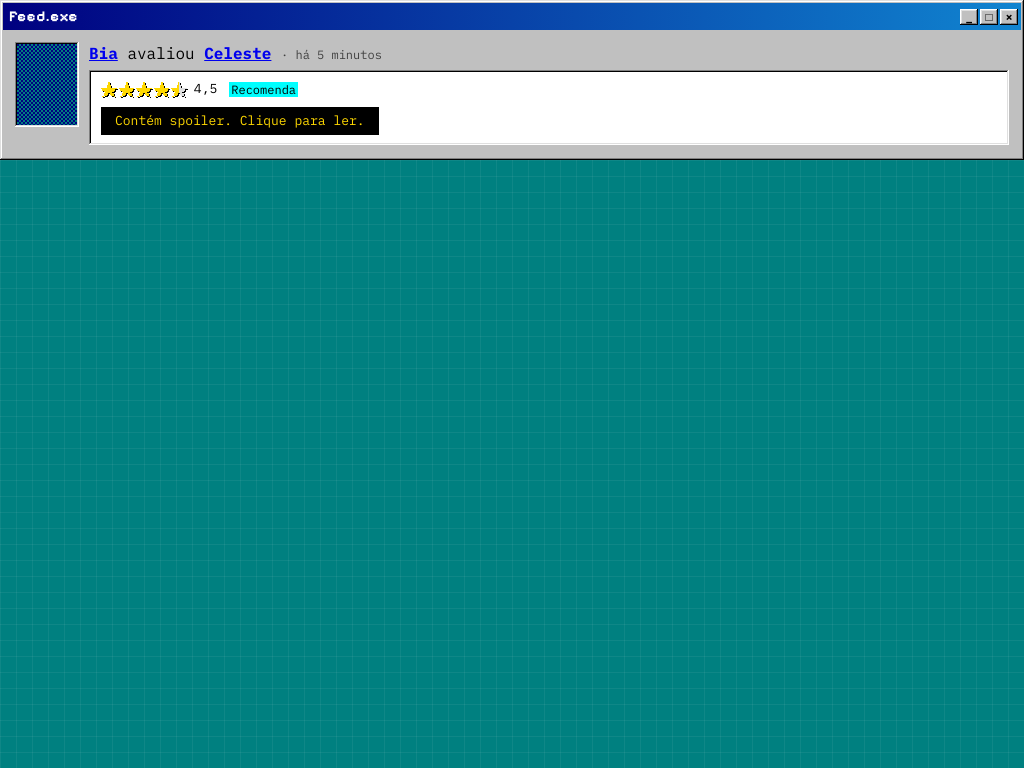
Test: FeedView › esconde o spoiler da avaliação até o clique
expect the text "Final emocionante." is not shown: met
Step 1. Click the button with class "spoiler" → (240,121), box [101,107,379,135]
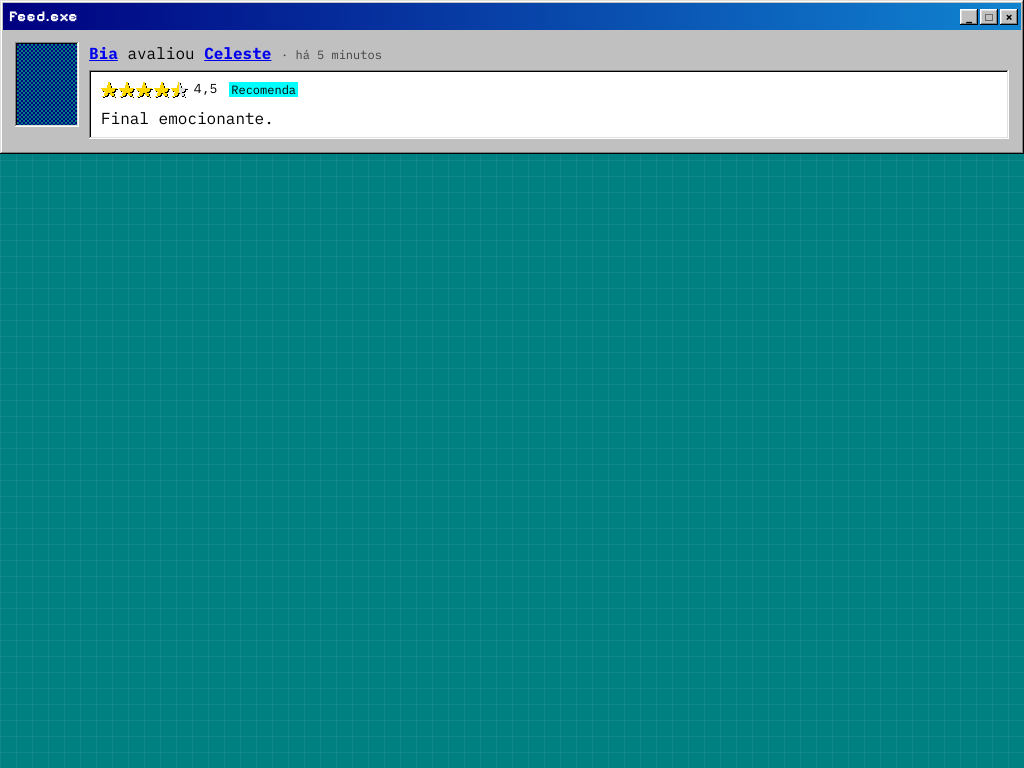
expect the text "Final emocionante." is shown: met, box [101,108,274,128]
